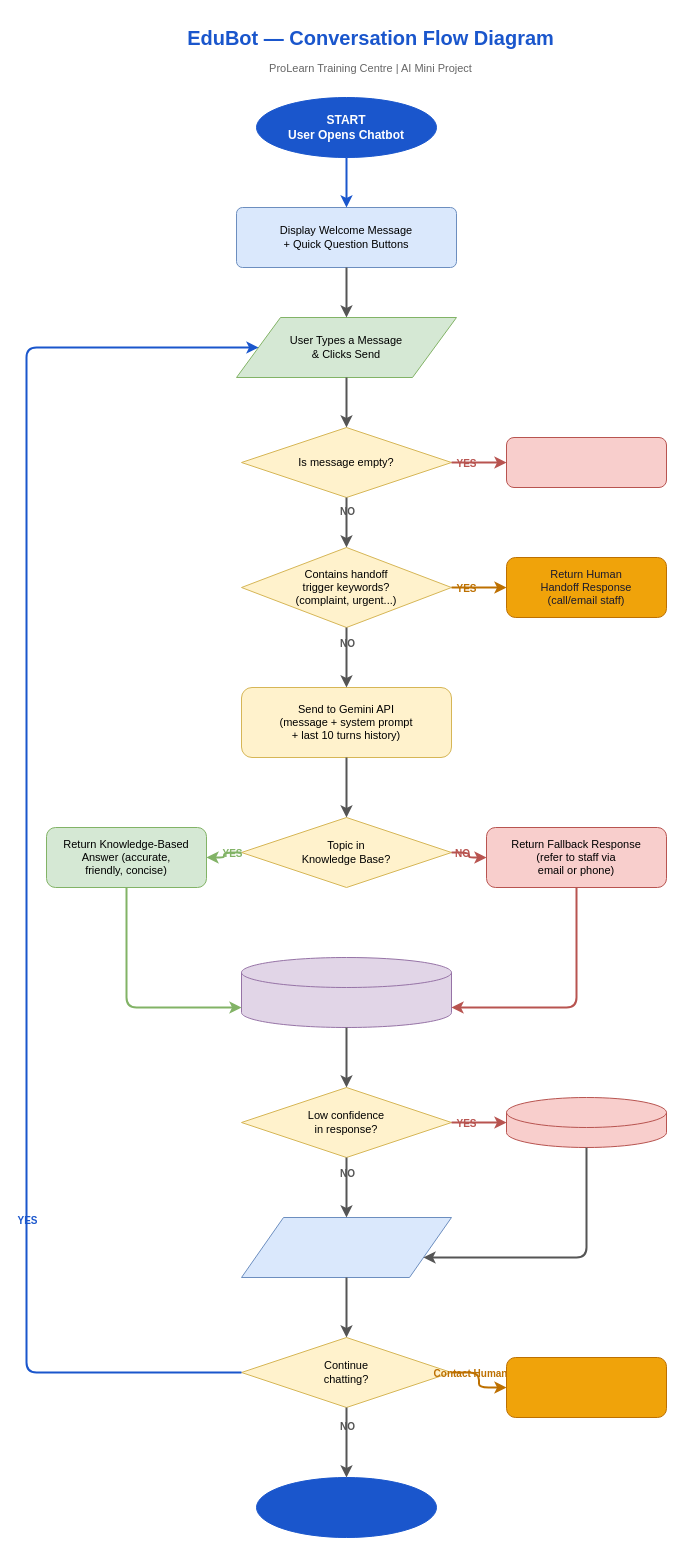
Some shapes in this 688 by 1555 pixel diagram are drawn without their labels. Each missing label, with the centre of its shape:
"Also save to unanswered.json" belongs at (x=586, y=1122).
"Display Response to User (with markdown formatting)" belongs at (x=346, y=1247).
"END Session Closed" belongs at (x=346, y=1507).
"Return 400 Error (no response shown)" belongs at (x=586, y=462).
"Save to chat_logs.json (session, timestamp, question, response)" belongs at (x=346, y=992).
"User Clicks 'Talk to Human' → Contact Form" belongs at (x=586, y=1387).
